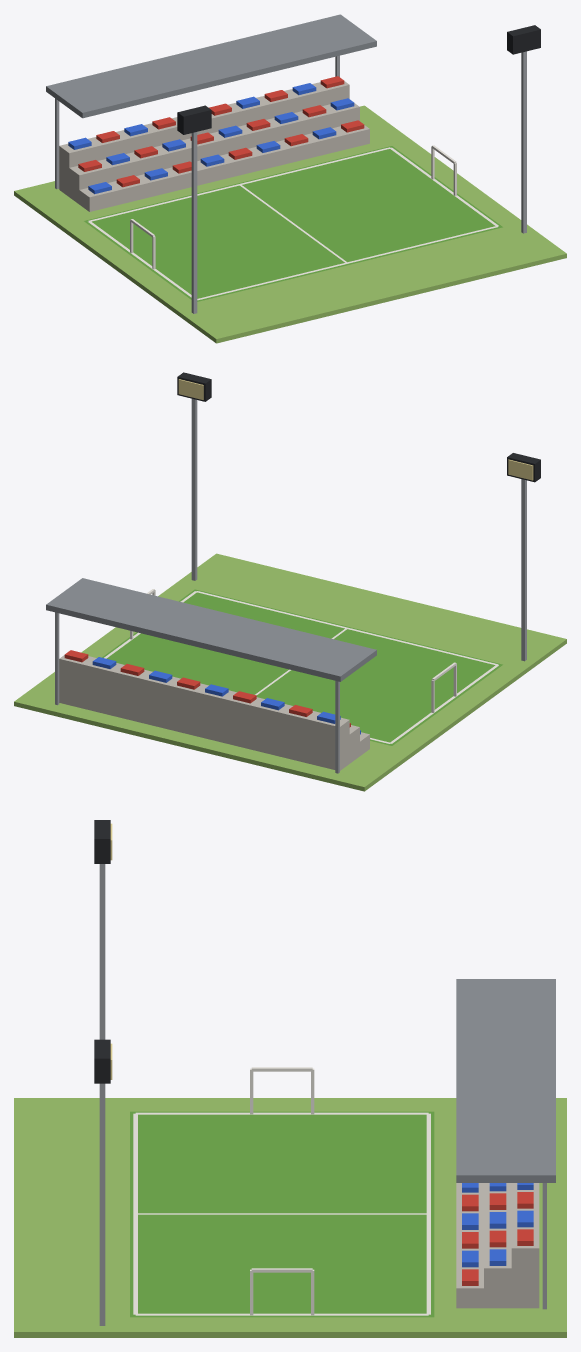
File: Park_cim_stadyum_Hafif.fbx
The picture shows the model from 3 angles, top to bottom: view 1: azimuth 30°, elevation 25°; view 2: azimuth 150°, elevation 25°; view 3: azimuth 270°, elevation 25°; orthographic projection. The views are drawn at different scales.
Parts seen in each view (by area): view 1: Park_cim_stadyum_Hafif; view 2: Park_cim_stadyum_Hafif; view 3: Park_cim_stadyum_Hafif.
Part boxes in pixels (x1,y1,x2,y2): Park_cim_stadyum_Hafif: [14, 14, 566, 343]; Park_cim_stadyum_Hafif: [14, 372, 566, 791]; Park_cim_stadyum_Hafif: [14, 820, 566, 1337].
Bounding box in the file's own units: 10.2 × 5.62 × 10.
